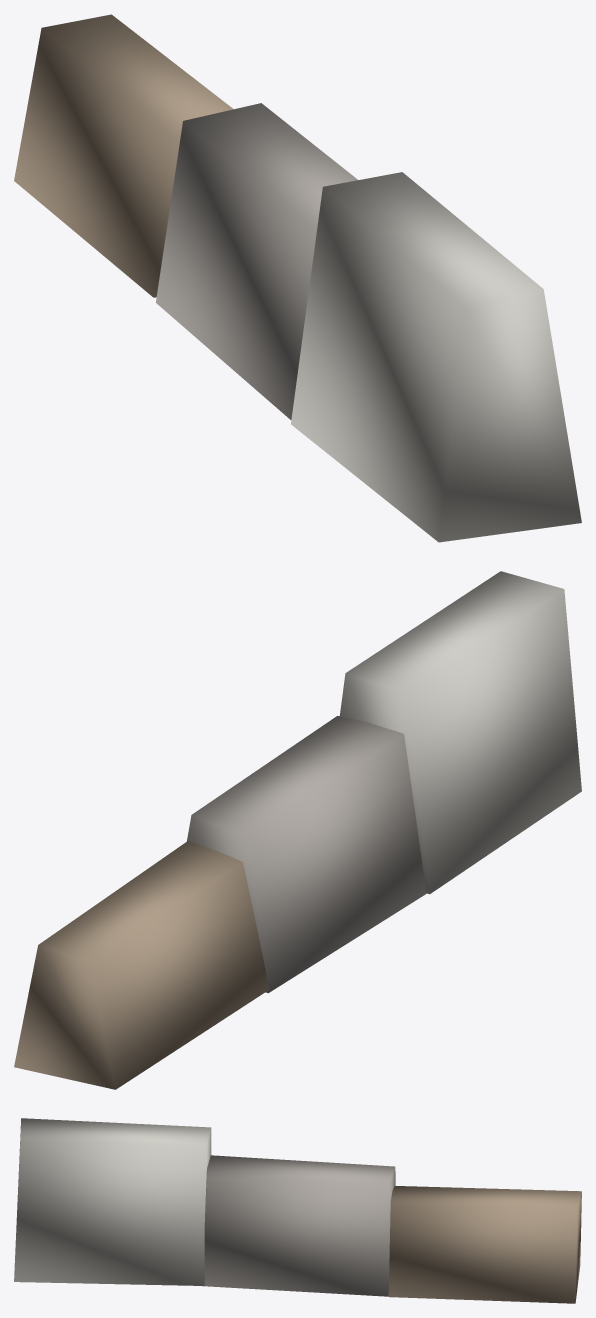
Rendered from farm_-12_-4_far.glb.
The picture shows the model from 3 angles, top to bottom: view 1: azimuth 30°, elevation 25°; view 2: azimuth 150°, elevation 25°; view 3: azimuth 270°, elevation 25°; orthographic projection. The views are drawn at different scales.
Parts seen in each view (by area): view 1: geometry_0; view 2: geometry_0; view 3: geometry_0.
Boxes of the visible parts, x1=… form: geometry_0: x1=14, y1=14, x2=581, y2=542; geometry_0: x1=14, y1=571, x2=581, y2=1089; geometry_0: x1=14, y1=1118, x2=581, y2=1303.
Size of the model in its own units: 0.9885 by 1.26 by 4.57.
